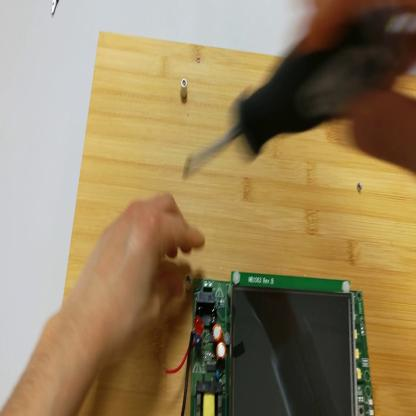hand: (72, 192, 207, 360), (298, 2, 416, 172)
low voltage board: (164, 267, 376, 415)
screwdriver-: (182, 11, 400, 179)
working area: (59, 32, 416, 415)
